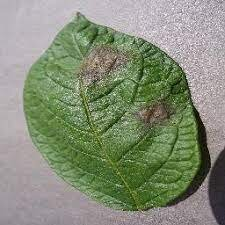potato_leaf: (23, 10, 201, 211)
